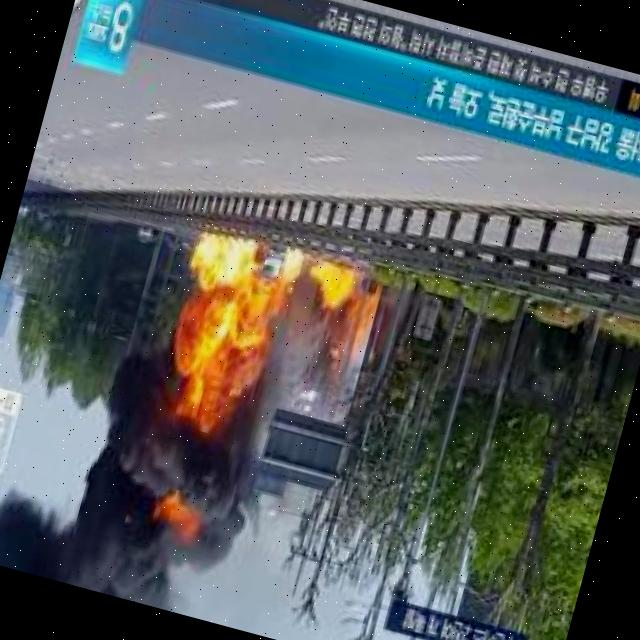fire: (137, 222, 305, 458), (139, 477, 213, 558), (310, 265, 362, 316), (341, 292, 374, 369)
